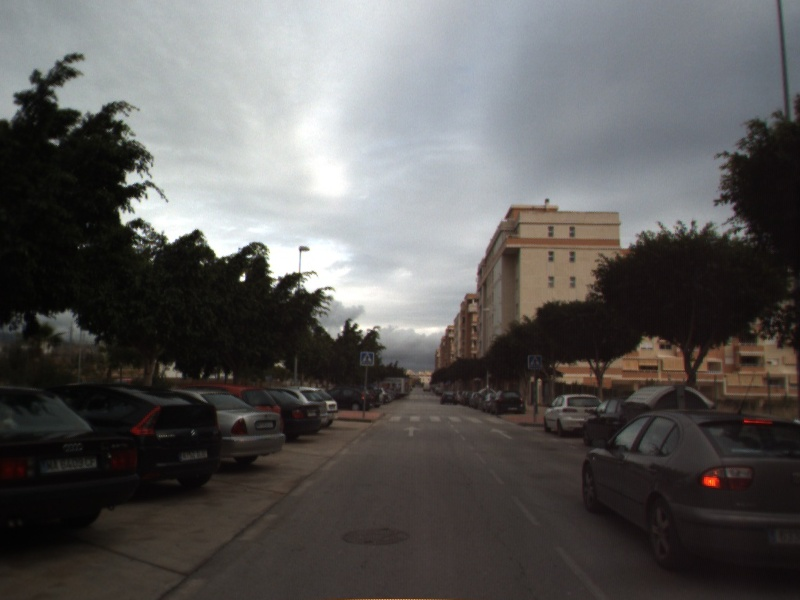STRAIGHT: (488, 426, 514, 441), (402, 424, 423, 438)
